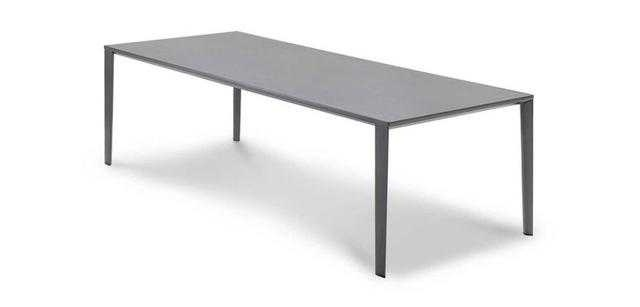obstacle: (104, 31, 532, 276)
